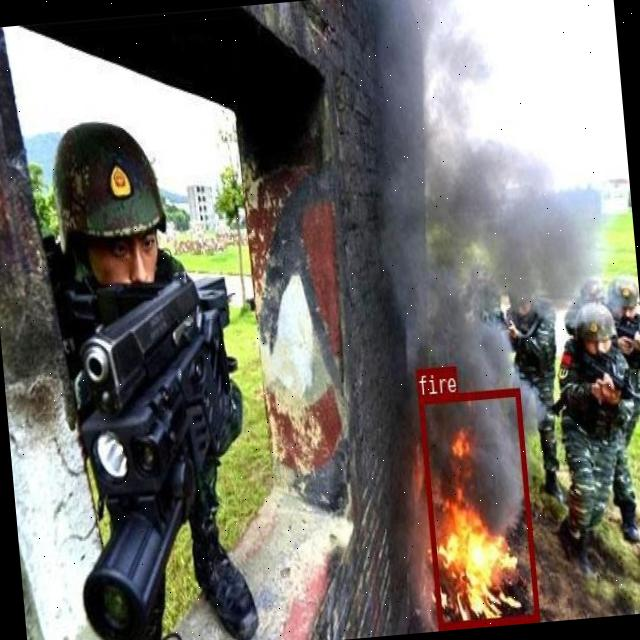fire: (417, 387, 538, 628)
